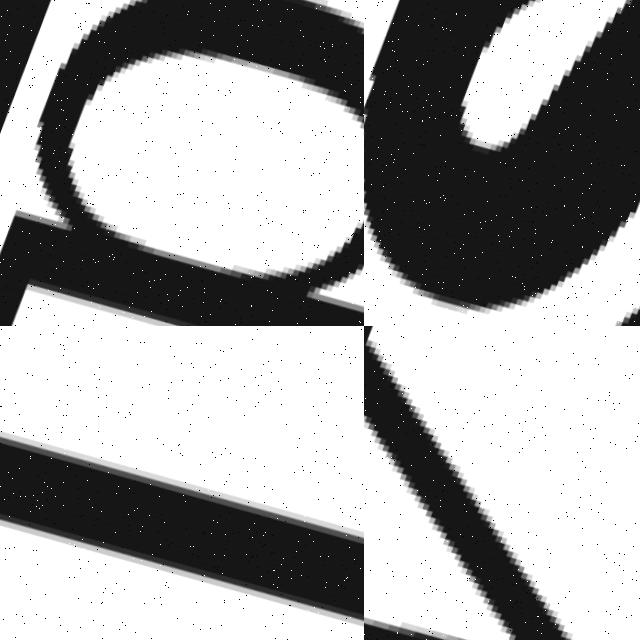L: (0, 356, 364, 640)
P: (0, 0, 364, 326)
S: (364, 0, 640, 326)
V: (364, 326, 640, 640)
